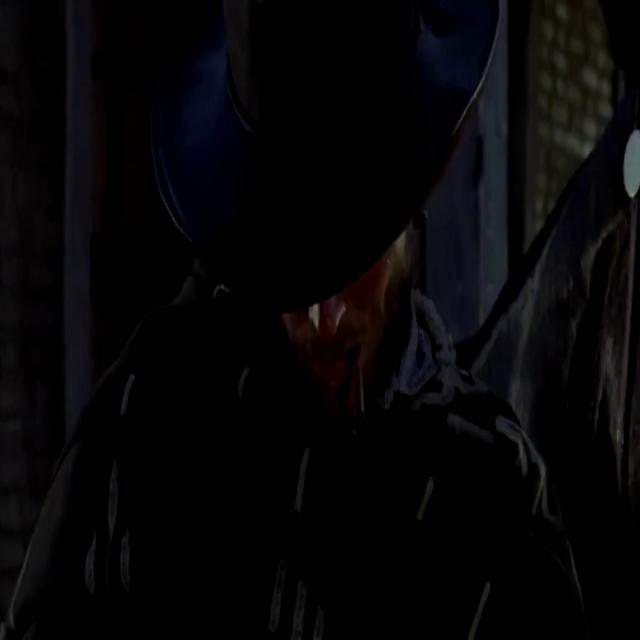Smooking: (342, 351, 374, 429)
